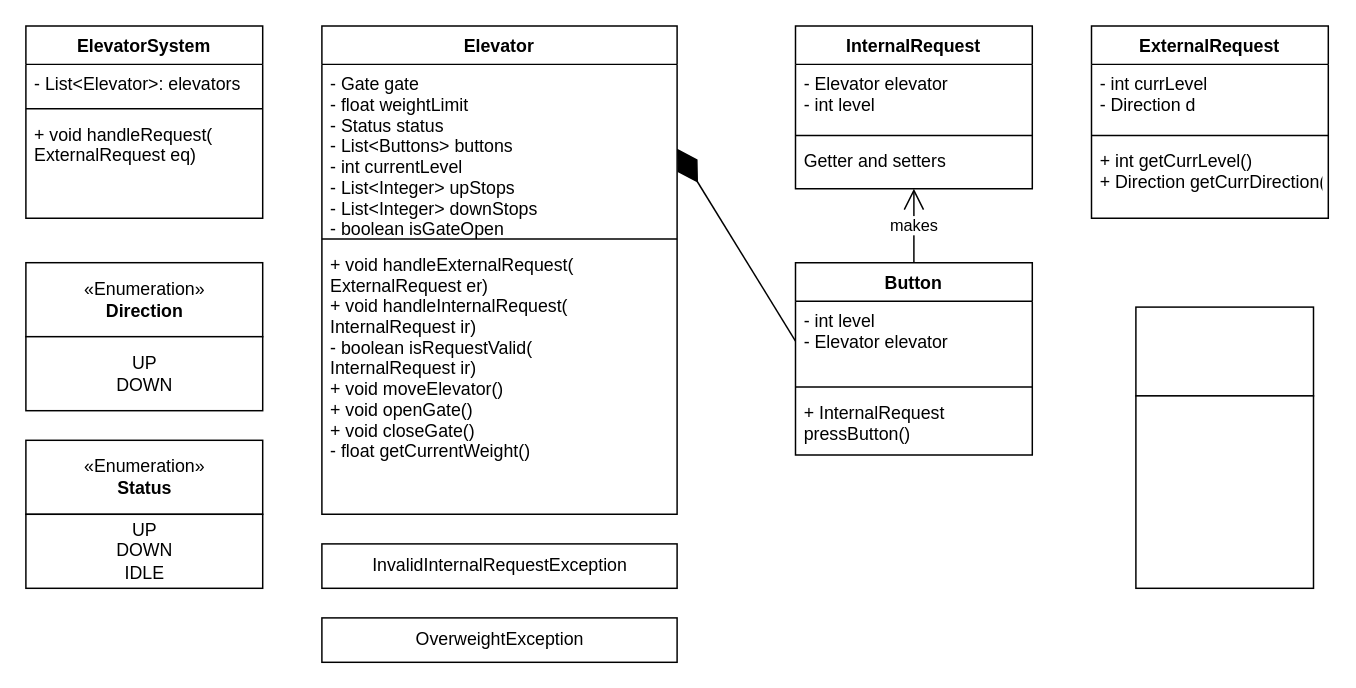
Image size: 1356x688. Some labels were removed from this diagram. The centre of each missing label's shape, as x and y in pixels:
"Call Elevator external request internal request open gate close gate checkWeight" goes at point 1224,491.
"UseCase" goes at point 1224,351.
